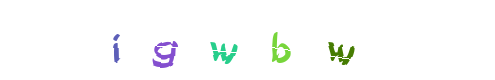B: (249, 0, 329, 80)
G: (183, 0, 263, 80)
I: (111, 0, 191, 80)
W: (207, 0, 287, 80), (300, 0, 380, 80)
